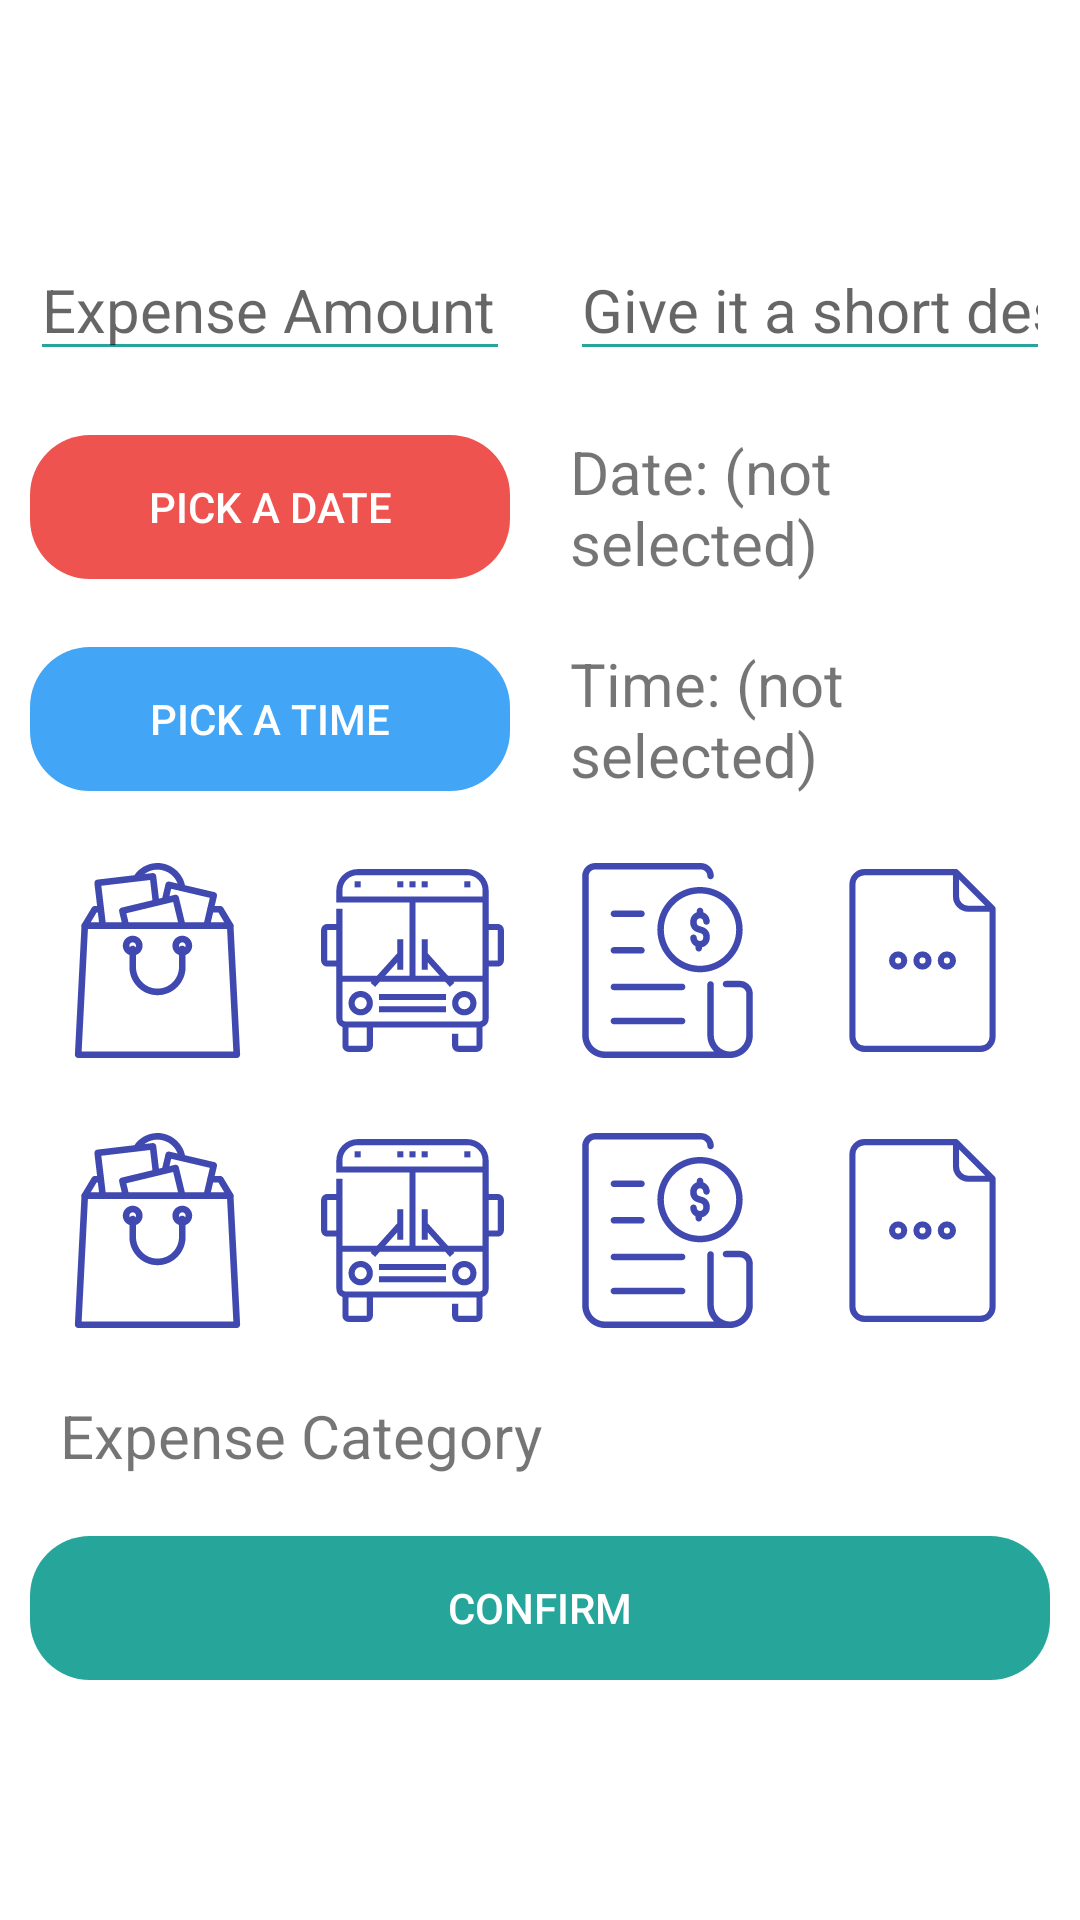

Named icons in this screenshot (1080*1920) and their centers, (x=x, y=y):
bill: (x=667, y=960), (x=667, y=1230)
others: (x=922, y=960), (x=922, y=1230)
shopping bag: (x=157, y=960), (x=157, y=1230)
transport: (x=412, y=960), (x=412, y=1230)
